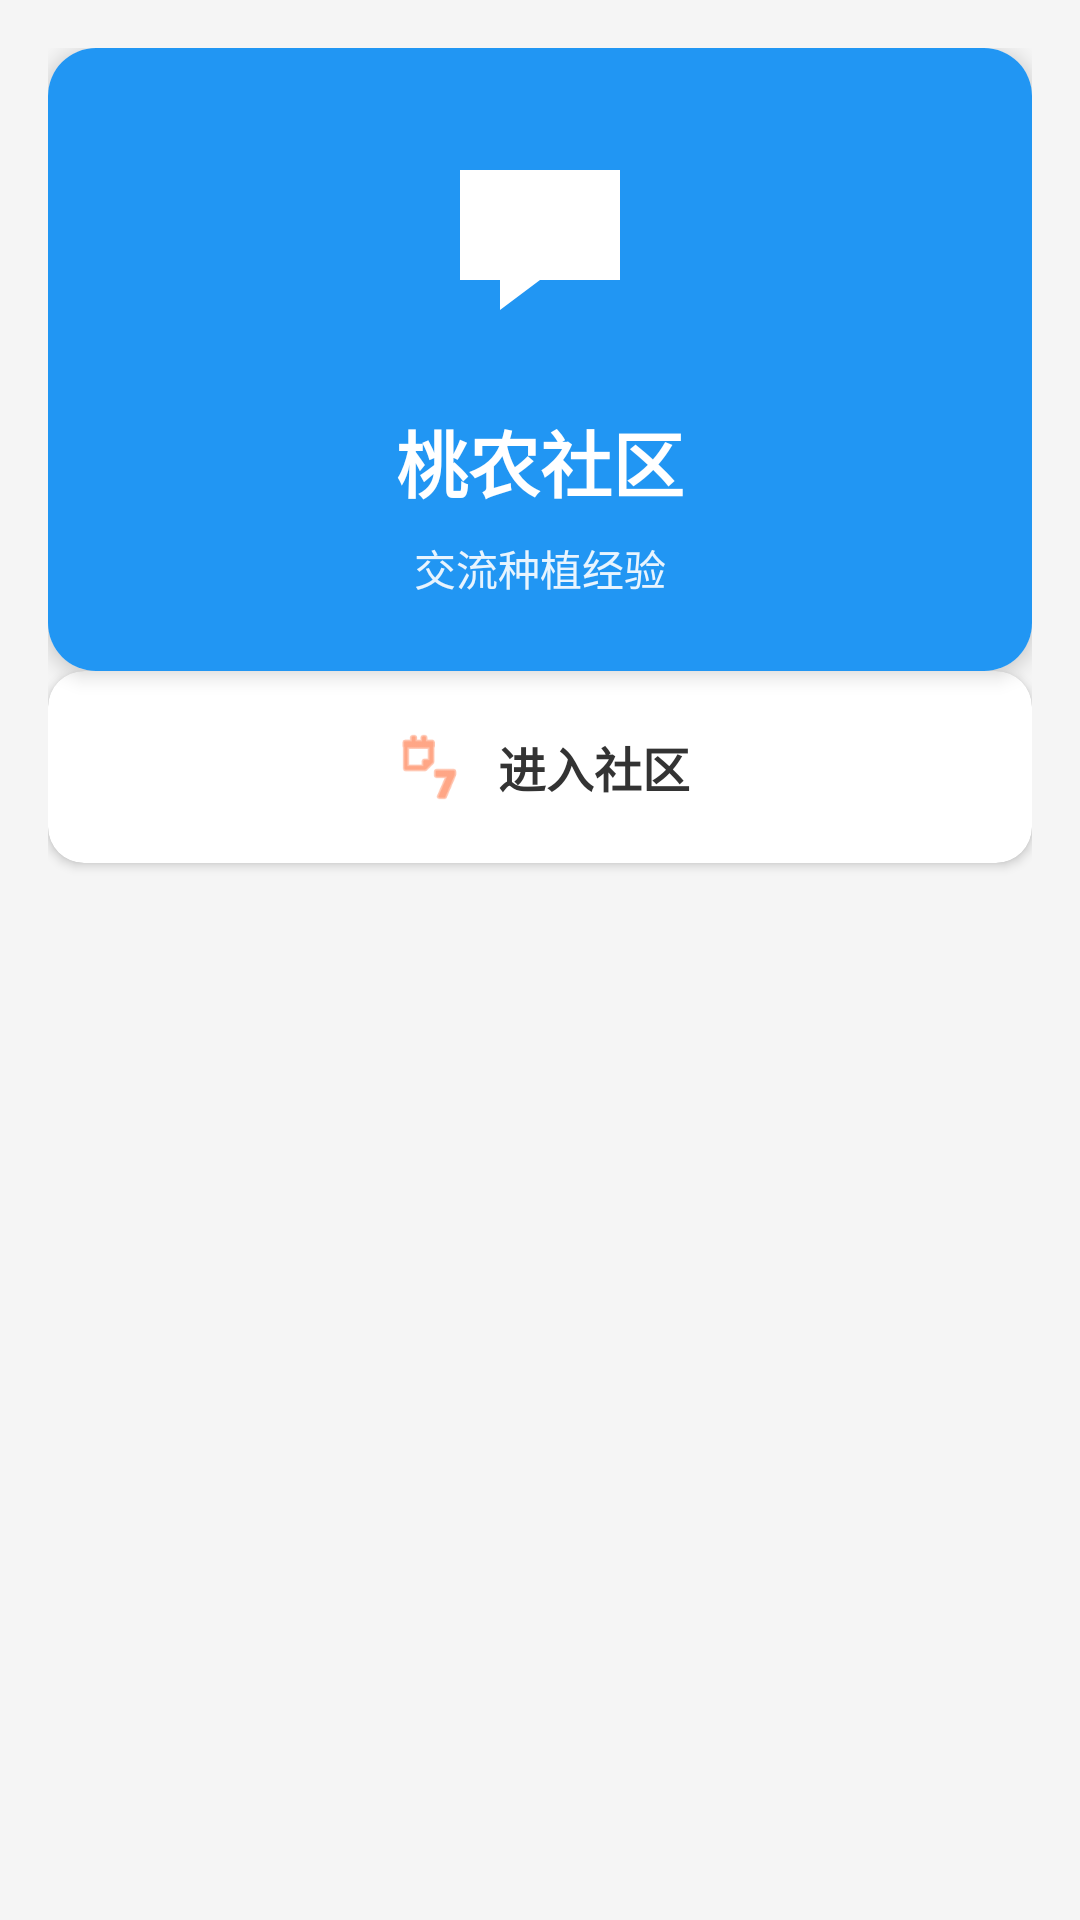

Where icons sit on this 1080x1920 app screen, as [x1=x1, y1=y1, x2=x2, y2=y2]:
week: [x1=402, y1=735, x2=457, y2=799]
